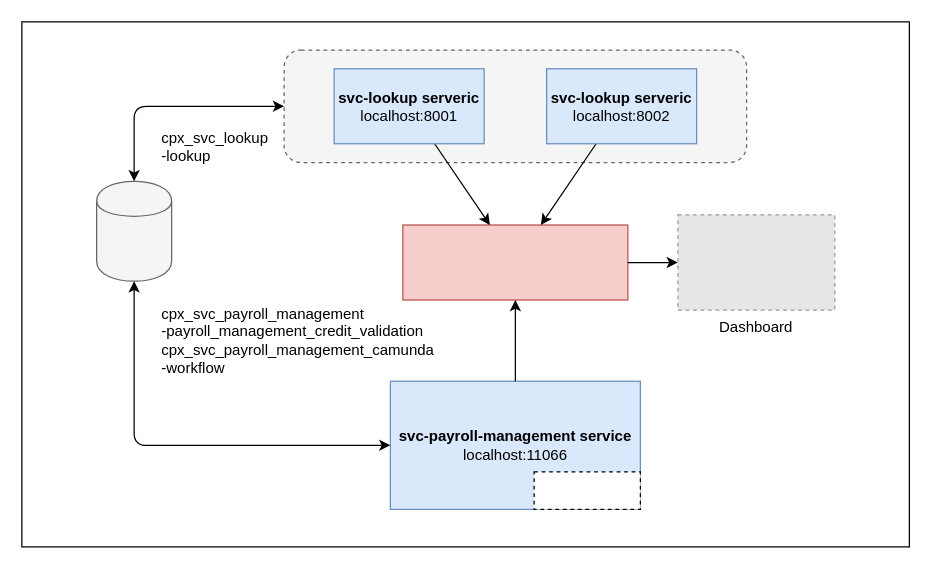
Image size: 931x569. Some labels were removed from this diagram. Grey dashed boxes stand in for pictures. The shapes that lost their labels are listed below. From the top down, each one's centre as x and y in pixels, then its label:
At (x=515, y=262): "Eureka service registry localhost:8761".
At (x=586, y=490): "lookup-helper".
